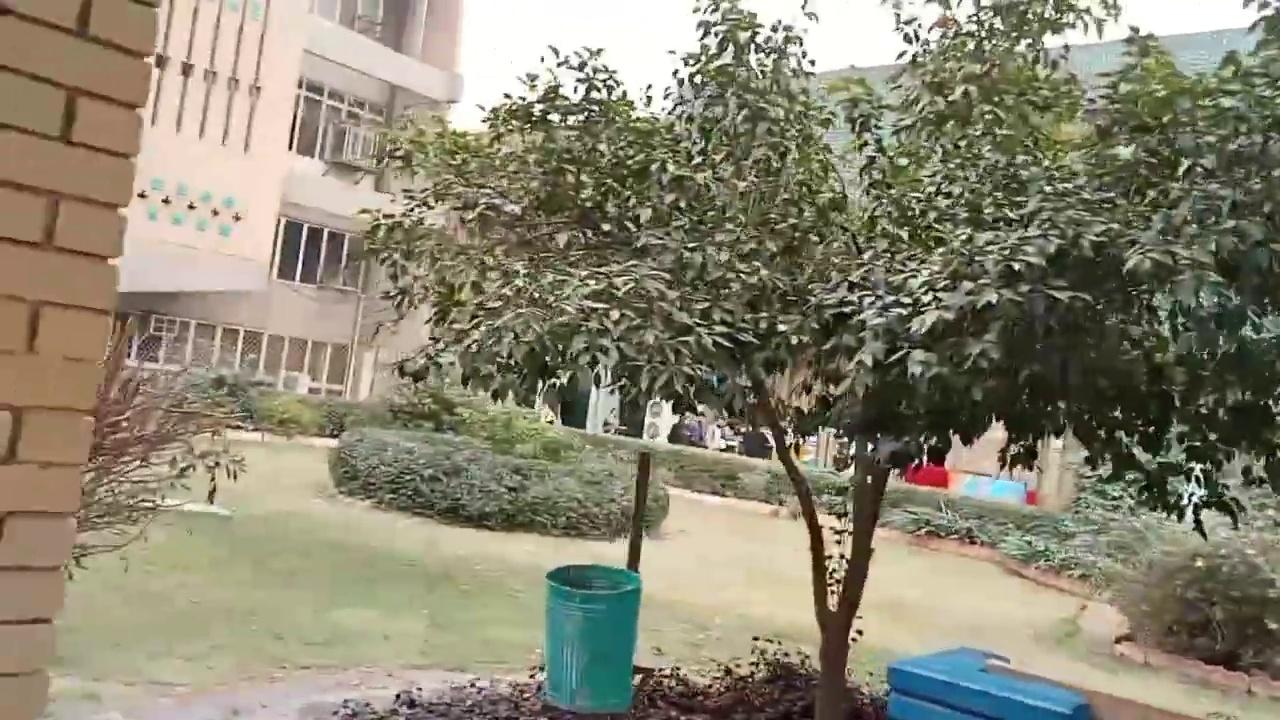fountain: (641, 396, 680, 443)
tree: (346, 0, 1242, 717), (1069, 0, 1278, 542), (325, 379, 670, 540), (65, 316, 250, 579)
